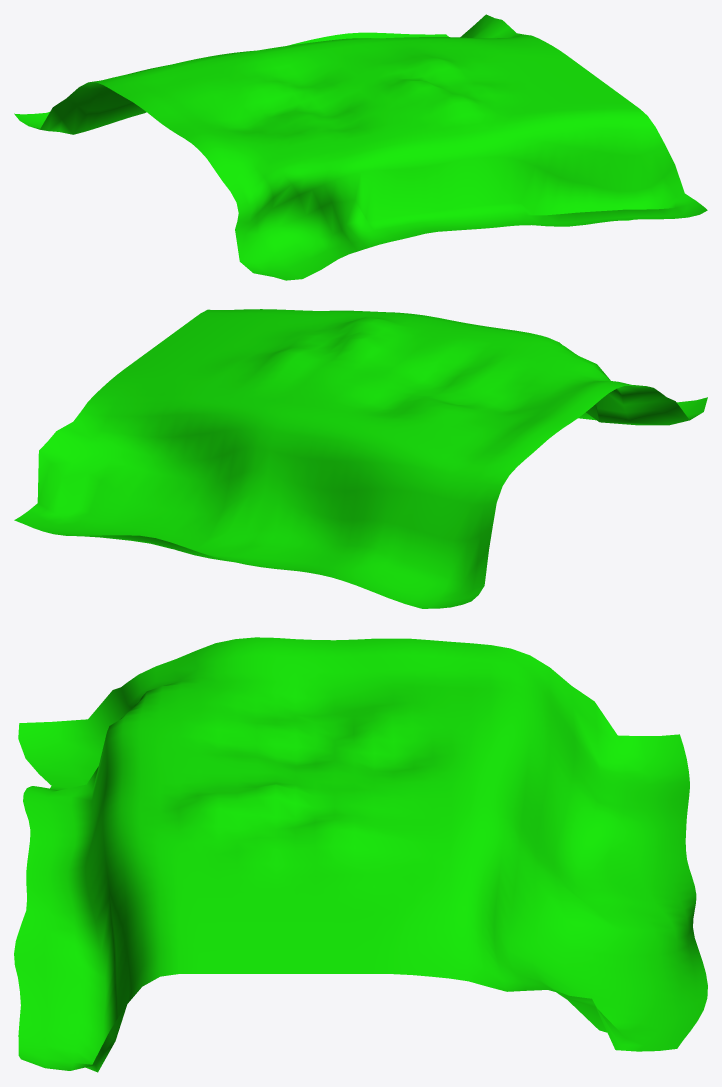
File: bikeshed_high.fbx
3 views of the same model, one above another, from view 1: azimuth 30°, elevation 25°; view 2: azimuth 150°, elevation 25°; view 3: azimuth 270°, elevation 25° (orthographic). The views are drawn at different scales.
Parts seen in each view (by area): view 1: Plane; view 2: Plane; view 3: Plane.
Part boxes in pixels (box(x1,y1,x2,y2)): Plane: box(14, 14, 707, 280); Plane: box(14, 309, 707, 608); Plane: box(14, 637, 707, 1072).
Size of the model in its own units: 2186 by 594 by 2162.
